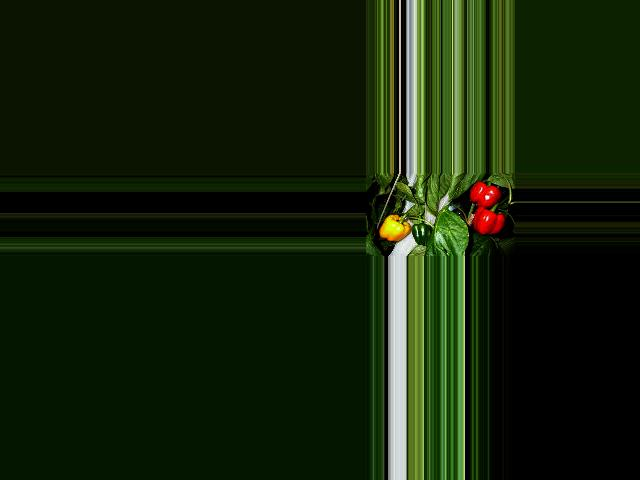bell_pepper: (376, 213, 411, 244)
